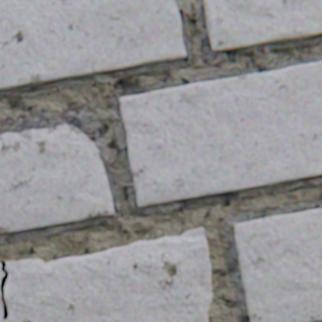brick: (119, 62, 321, 208), (0, 228, 211, 321), (0, 0, 185, 91), (0, 124, 113, 234), (233, 209, 321, 321), (202, 0, 321, 53), (0, 264, 4, 286)
crack: (0, 261, 7, 319)
